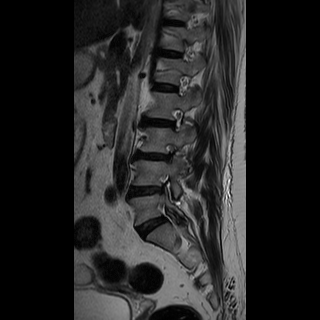RFS0: (164, 104, 189, 135), (170, 69, 193, 101)
RFS3: (158, 139, 183, 170)
